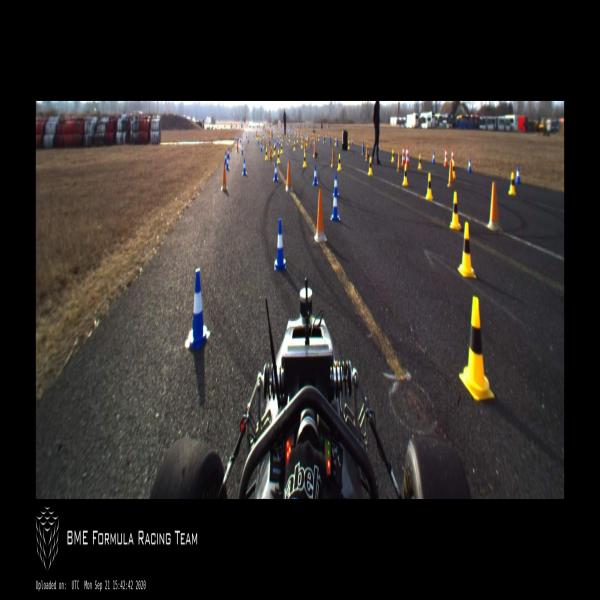blue_cone: (184, 268, 210, 350), (274, 218, 286, 270), (331, 188, 340, 221), (332, 173, 338, 198), (312, 165, 318, 185), (273, 162, 278, 181), (242, 160, 247, 176), (516, 166, 520, 184), (468, 159, 471, 173), (240, 144, 244, 154), (226, 157, 229, 170), (227, 147, 230, 159), (432, 153, 435, 164), (225, 151, 227, 164), (260, 143, 262, 151), (274, 141, 276, 149)
large_orange_cone: (406, 144, 410, 166), (402, 144, 406, 166), (444, 146, 448, 167), (451, 146, 454, 160)
unknown_cone: (486, 181, 502, 231), (314, 187, 327, 242), (285, 160, 293, 192), (447, 160, 454, 188), (221, 162, 227, 191), (331, 147, 335, 168), (397, 152, 401, 172), (313, 142, 317, 159), (361, 140, 365, 155), (269, 144, 272, 160), (365, 145, 368, 161), (236, 141, 239, 153), (309, 136, 312, 148), (263, 138, 266, 148), (329, 136, 332, 146), (304, 140, 306, 151), (336, 136, 338, 146)
yellow_cone: (459, 297, 494, 400), (458, 222, 476, 277), (450, 192, 461, 229), (425, 172, 434, 200), (508, 172, 516, 194), (402, 164, 408, 185), (368, 157, 372, 175), (452, 161, 456, 178), (418, 154, 422, 170), (302, 152, 306, 167), (391, 149, 395, 162), (338, 154, 341, 171), (277, 150, 280, 164), (265, 148, 268, 161), (280, 142, 283, 154), (273, 145, 276, 156), (293, 141, 296, 151), (367, 144, 369, 154), (301, 140, 303, 148), (348, 141, 350, 149)
